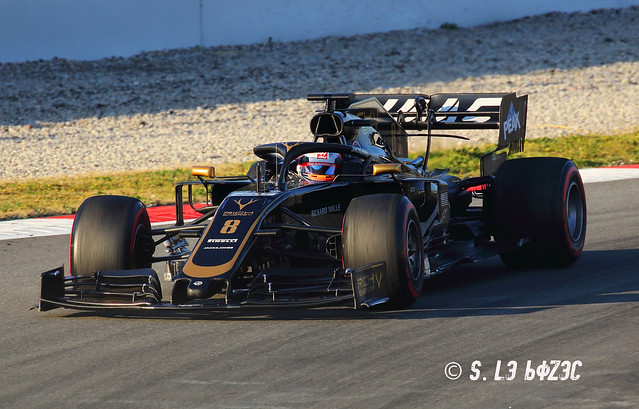F1 Car: (32, 88, 595, 315)
